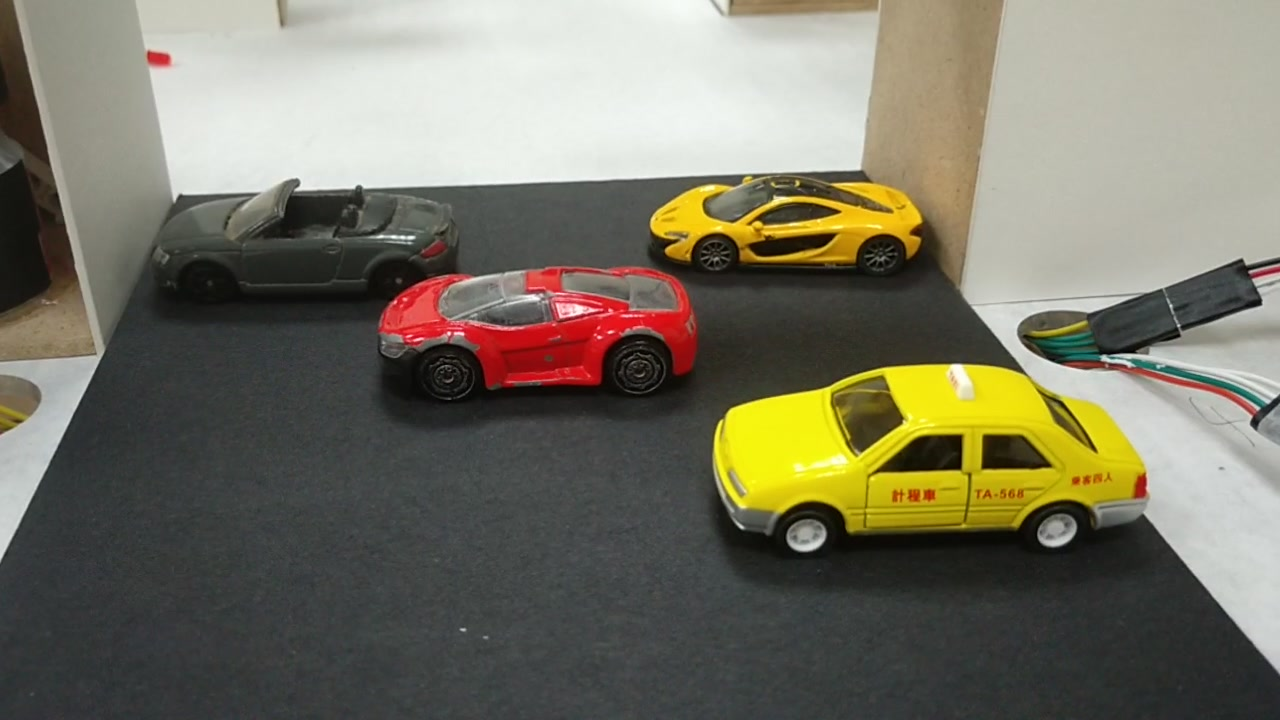car: (714, 378, 1149, 542), (390, 269, 693, 386), (156, 196, 458, 290), (649, 182, 927, 280)
